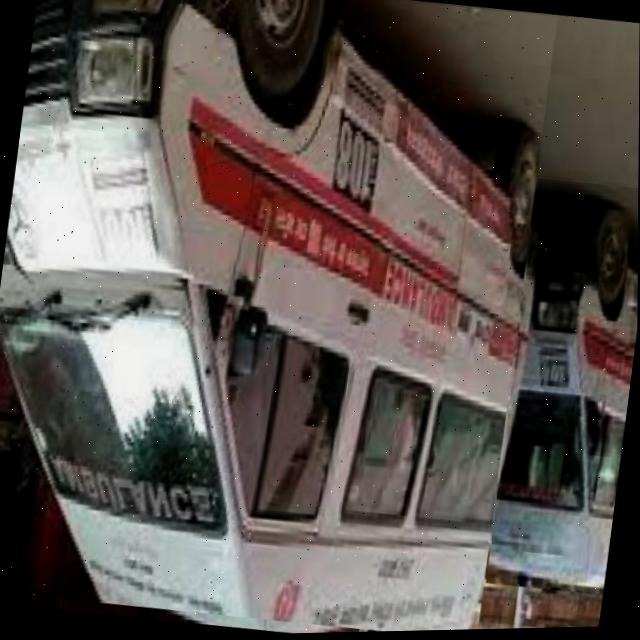Ambulance: (0, 0, 557, 640), (486, 179, 639, 599)
